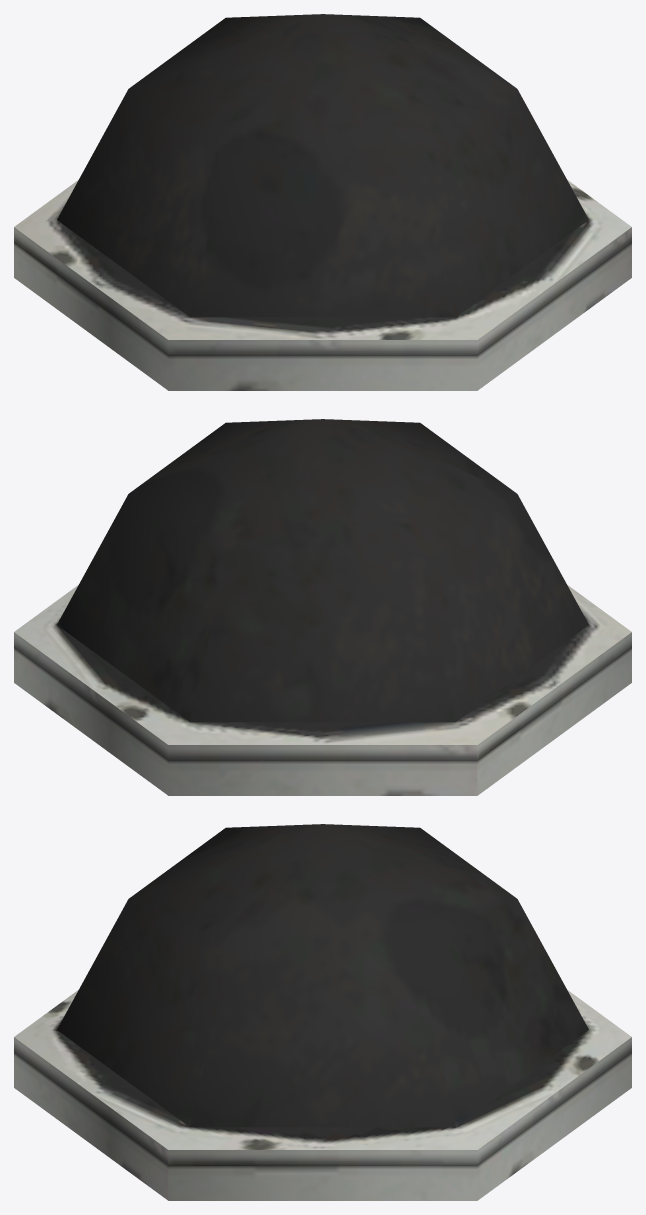
Rendered from p6_security_camera_dome_lod2.glb.
3 renders of one model, top to bottom at view 1: azimuth 30°, elevation 25°; view 2: azimuth 150°, elevation 25°; view 3: azimuth 270°, elevation 25°, orthographic.
Parts seen in each view (by area): view 1: surf0; view 2: surf0; view 3: surf0.
Boxes of the visible parts, x1,y1,x2,y2 form: surf0: (14,14,631,390); surf0: (14,419,631,795); surf0: (14,824,631,1200).
Bounding box in the file's own units: 9.28 × 5.04 × 10.71.
